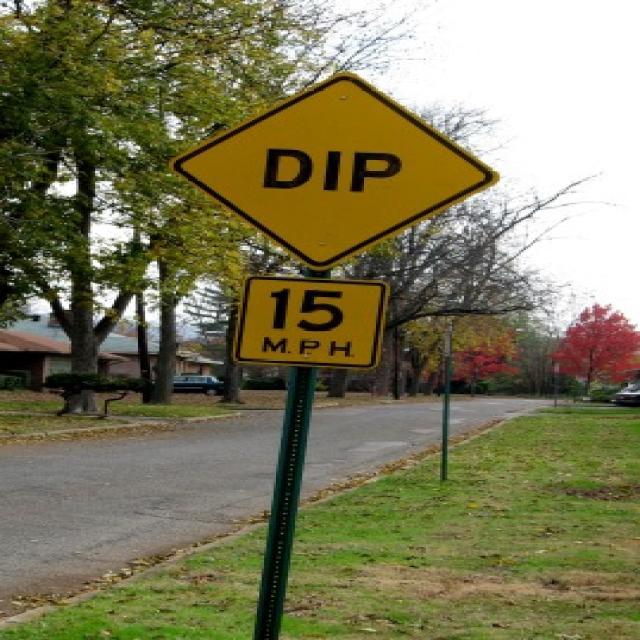Vehicle: (174, 376, 225, 396), (611, 384, 640, 406)
